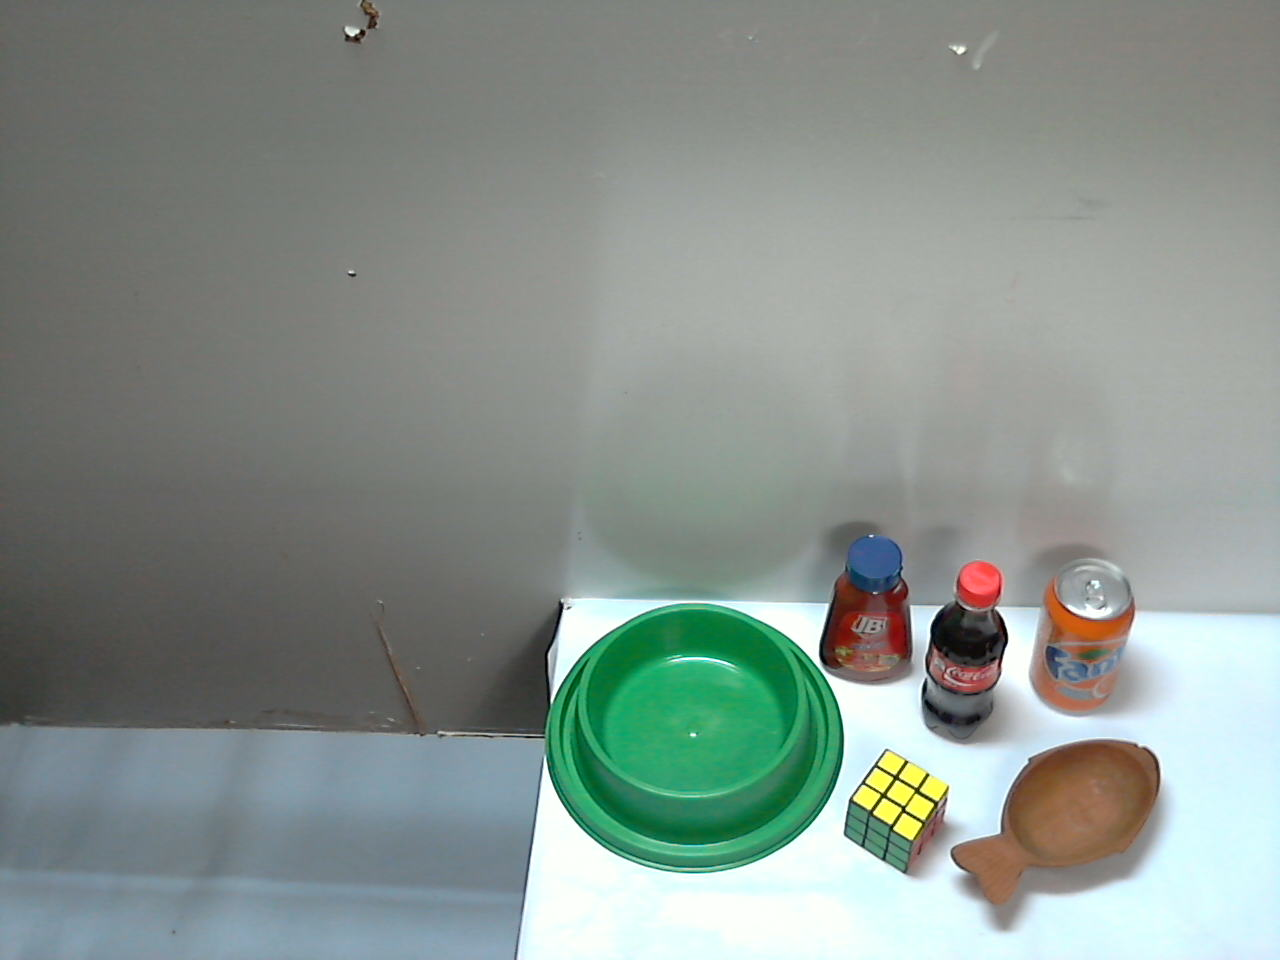coca: (626, 576, 729, 775)
cubix: (472, 748, 588, 876)
ketchup: (512, 575, 621, 736)
lata: (738, 603, 836, 773)
pescado: (605, 781, 845, 959)
platoperro: (824, 678, 1144, 960)
